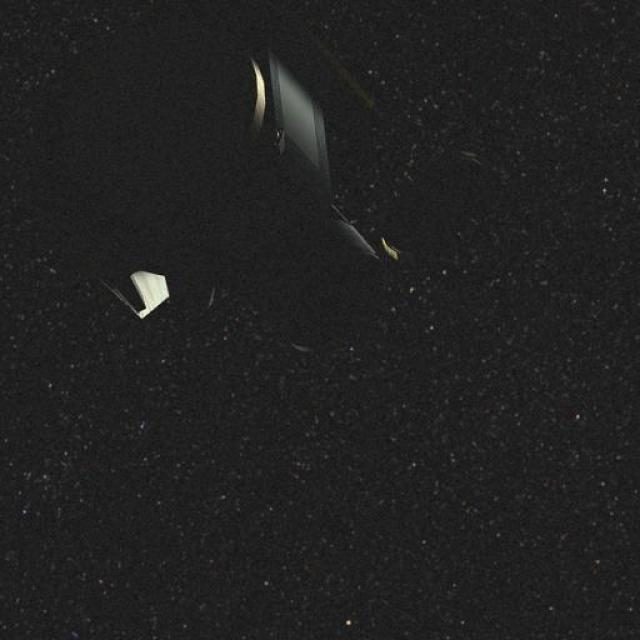debris: (83, 76, 448, 342)
